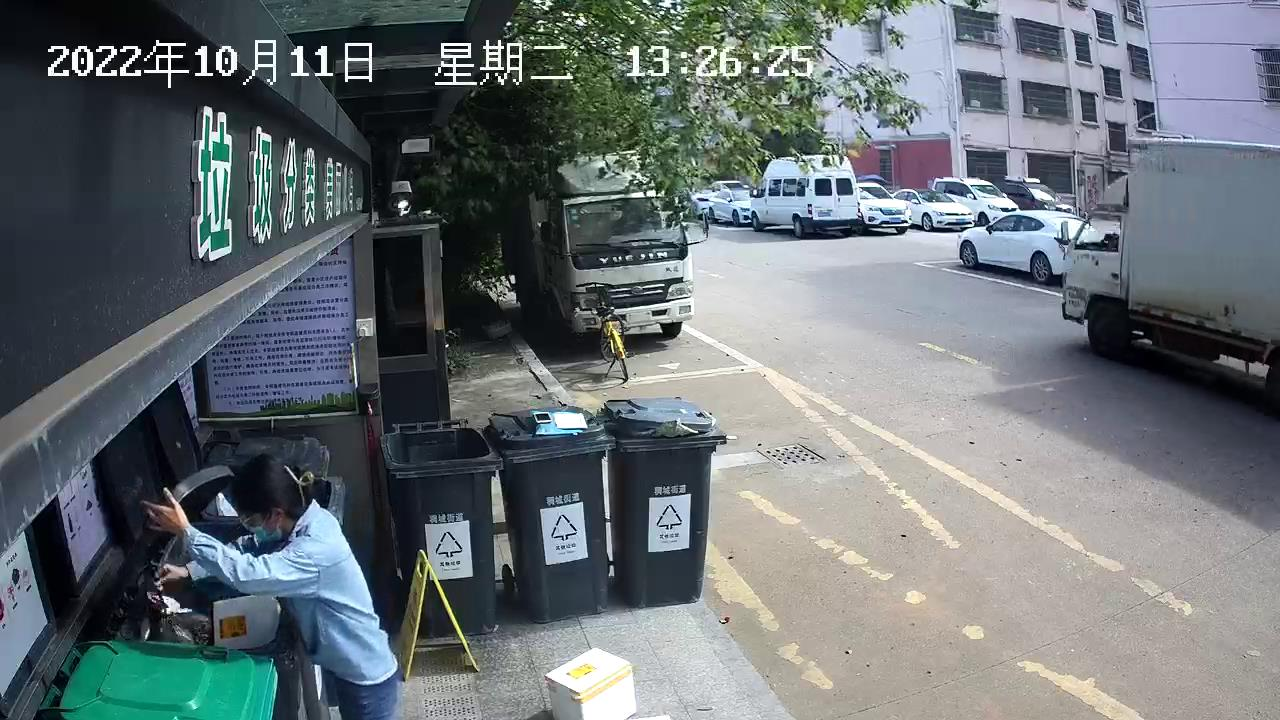worker: (135, 449, 407, 720)
zhizhipin: (541, 645, 640, 720)
